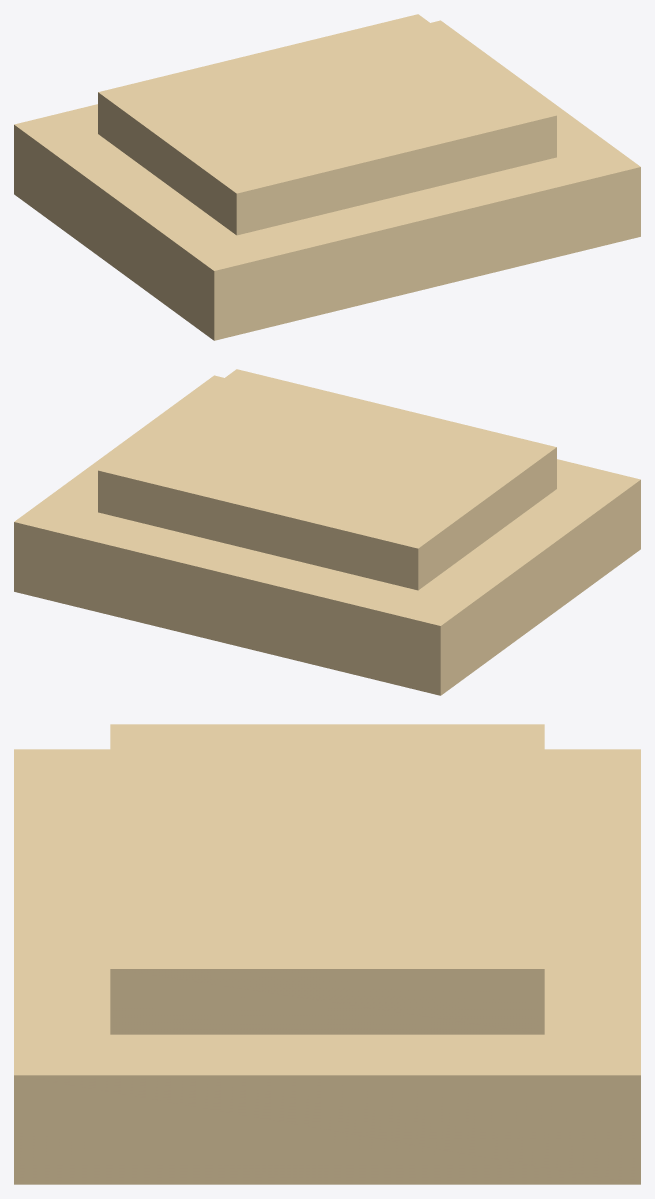
Rendered from TPL-MALL.glb.
The picture shows the model from 3 angles, top to bottom: view 1: azimuth 30°, elevation 25°; view 2: azimuth 150°, elevation 25°; view 3: azimuth 270°, elevation 25°; orthographic projection. The views are drawn at different scales.
Parts seen in each view (by area): view 1: Commercial Mall; view 2: Commercial Mall; view 3: Commercial Mall.
Part boxes in pixels (box(x1,y1,x2,y2)): Commercial Mall: box(14, 14, 640, 340); Commercial Mall: box(14, 369, 640, 695); Commercial Mall: box(14, 724, 640, 1184).
Size of the model in its own units: 22 by 5.5 by 17.88.
